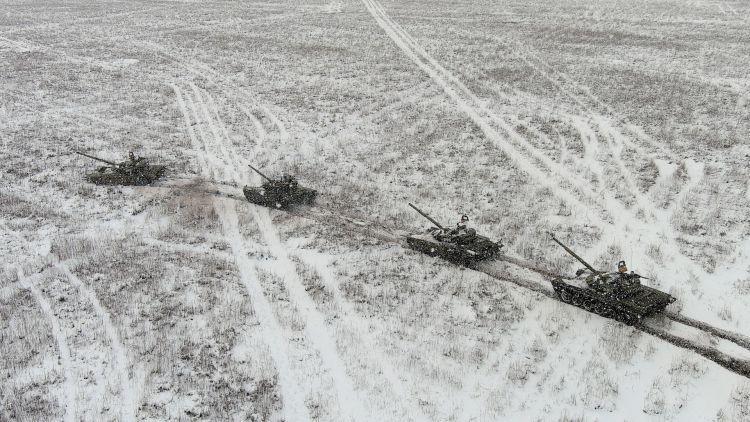tank: (554, 232, 676, 330), (400, 195, 504, 271), (70, 142, 169, 192), (240, 160, 322, 217)
